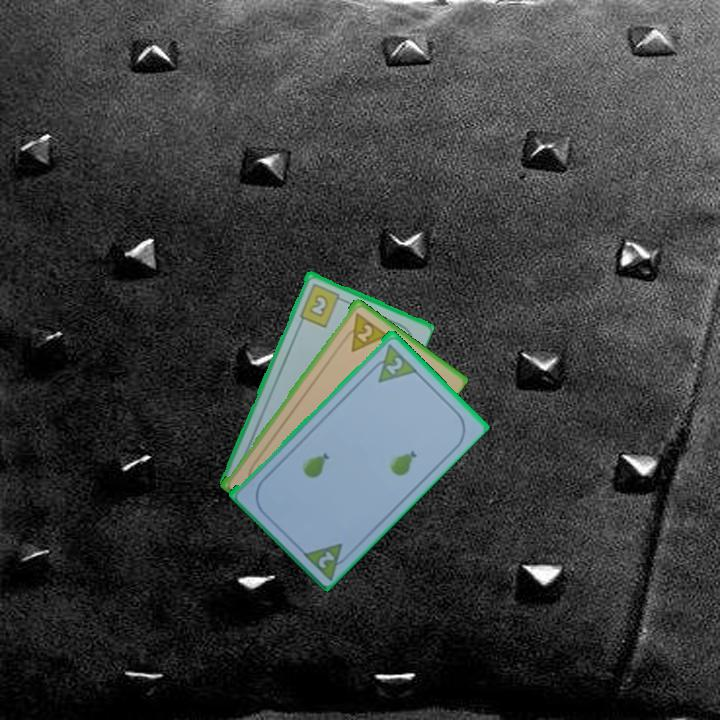2b: (296, 280, 347, 330)
2p: (338, 308, 389, 355), (382, 353, 406, 377), (314, 547, 338, 571)
